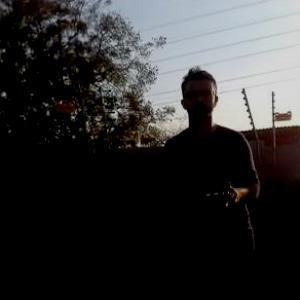follow: (152, 56, 267, 299)
